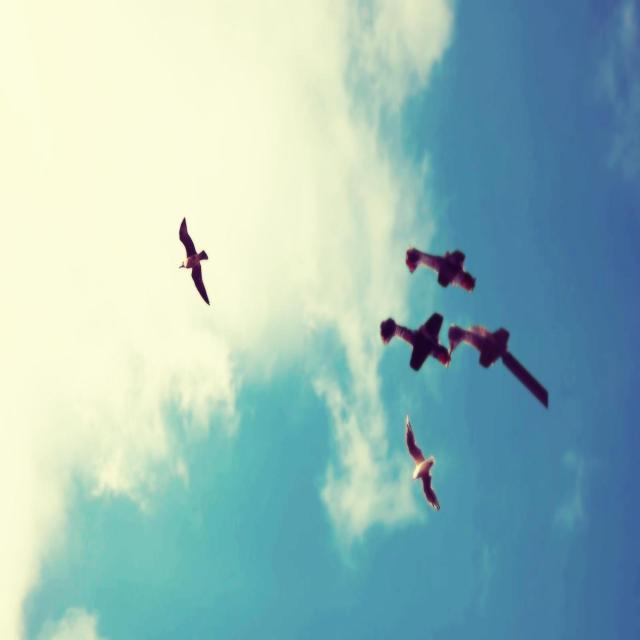airplane: (447, 322, 548, 409), (379, 312, 450, 371), (405, 245, 476, 292)
